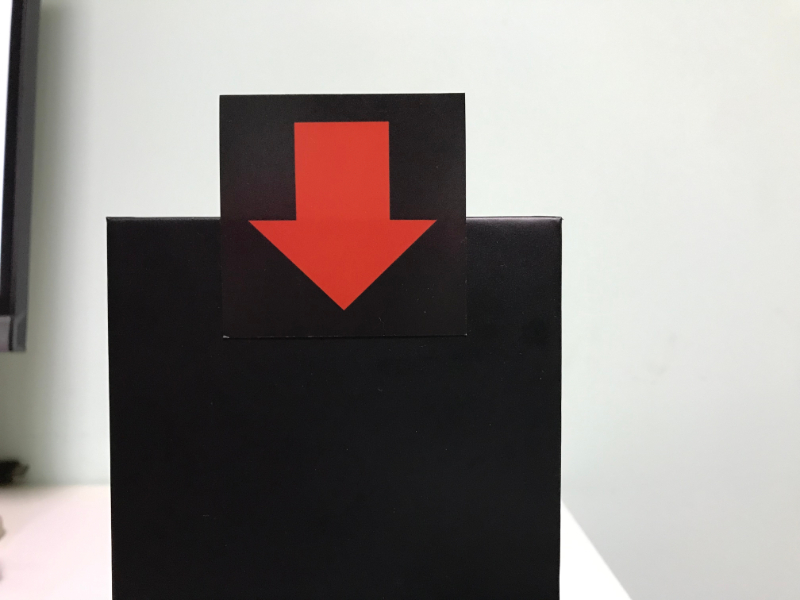DA-2: (224, 95, 463, 332)
